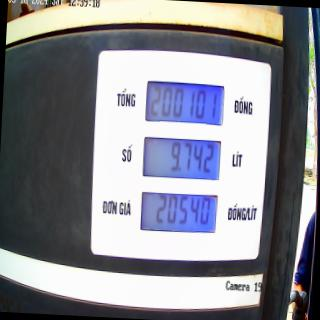screen: (136, 76, 226, 238)
